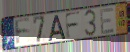3: (83, 8, 98, 38)
7: (32, 15, 47, 45)
A: (47, 14, 66, 42)
E: (99, 7, 116, 36)
F: (64, 10, 82, 41), (14, 17, 32, 47)
